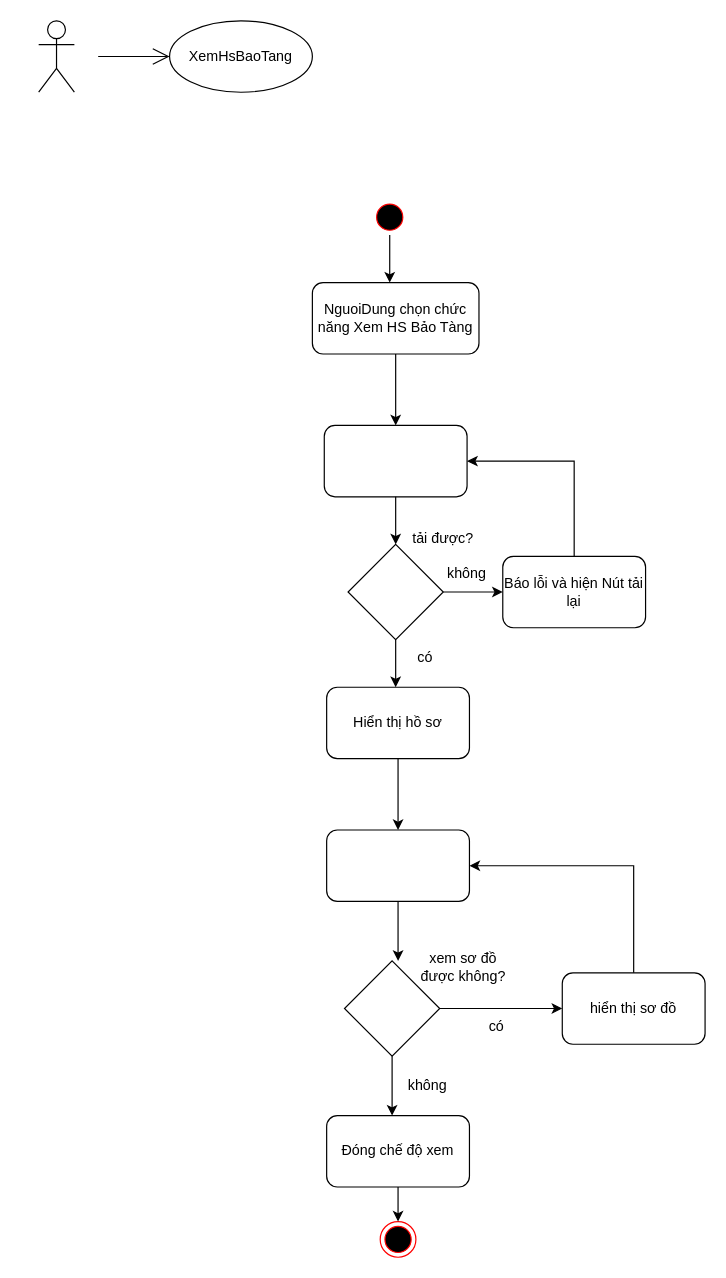
Some shapes in this 726 by 1278 pixel diagram are drawn without their labels. The centre of each missing label's shape, as x and y in pixels:
"Hệ Thống truy vấn hồ sơ bảo tàng" belongs at [395,460].
"NguoiDung" belongs at [55,56].
"Xem thông tin" belongs at [397,865].
